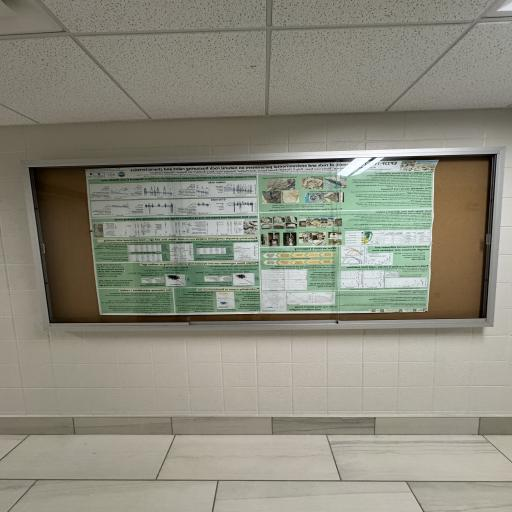poster board: (19, 144, 506, 334)
